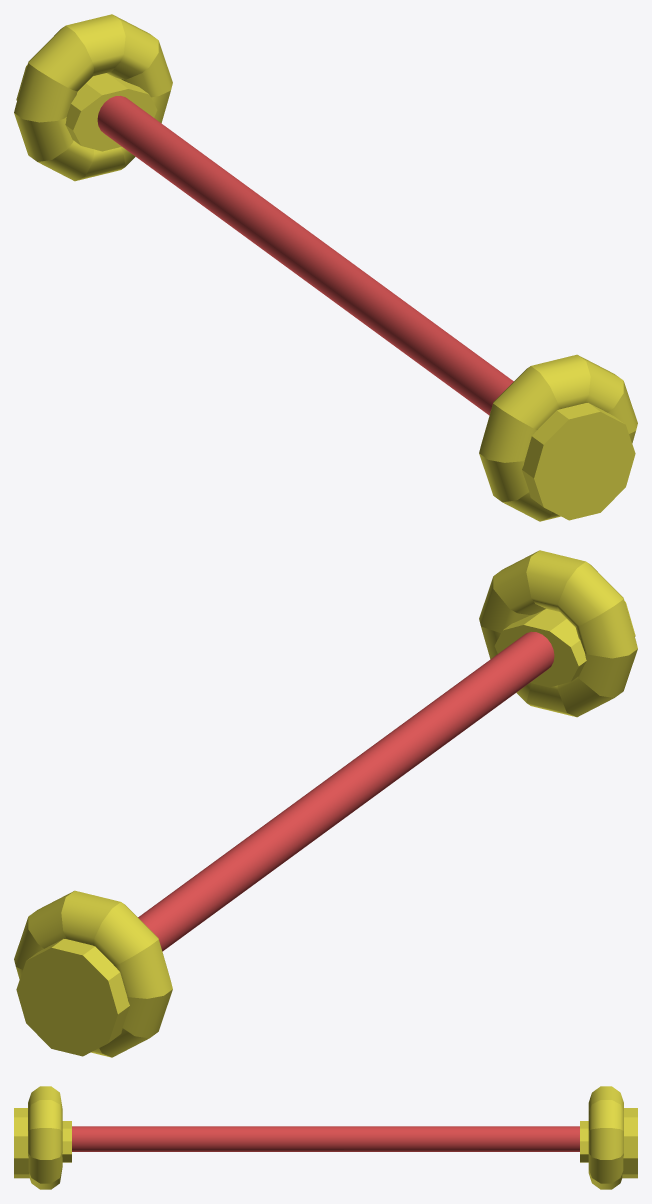
Rendered from laser.fbx.
The picture shows the model from 3 angles, top to bottom: view 1: azimuth 30°, elevation 25°; view 2: azimuth 150°, elevation 25°; view 3: azimuth 270°, elevation 25°; orthographic projection. The views are drawn at different scales.
Parts seen in each view (by area): view 1: pCylinder3, polySurface1, polySurface5, polySurface6, polySurface4; view 2: pCylinder3, polySurface5, polySurface1, polySurface3, polySurface2; view 3: pCylinder3, polySurface1, polySurface5, polySurface3, polySurface6, polySurface2, polySurface4.
Boxes of the visible parts, <box> form: pCylinder3: <box>97,95,513,415</box>; polySurface1: <box>14,14,172,181</box>; polySurface5: <box>479,354,637,521</box>; polySurface6: <box>522,403,635,520</box>; polySurface4: <box>65,73,157,151</box>; pCylinder3: <box>138,631,554,951</box>; polySurface5: <box>479,550,637,717</box>; polySurface1: <box>14,890,172,1057</box>; polySurface3: <box>16,939,129,1056</box>; polySurface2: <box>494,609,586,687</box>; pCylinder3: <box>72,1126,579,1151</box>; polySurface1: <box>588,1086,623,1189</box>; polySurface5: <box>28,1086,62,1189</box>; polySurface3: <box>622,1108,637,1178</box>; polySurface6: <box>14,1108,29,1178</box>; polySurface2: <box>62,1121,71,1162</box>; polySurface4: <box>580,1121,588,1162</box>.
Bounding box in the file's own units: 2.95 × 2.81 × 17.65.
